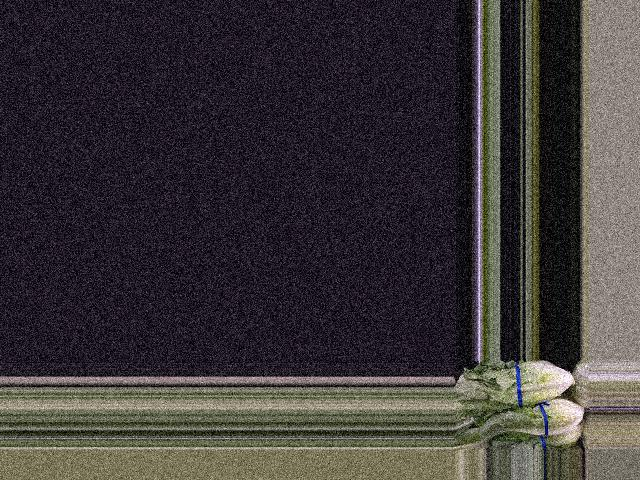lettuce: (477, 398, 585, 444)
